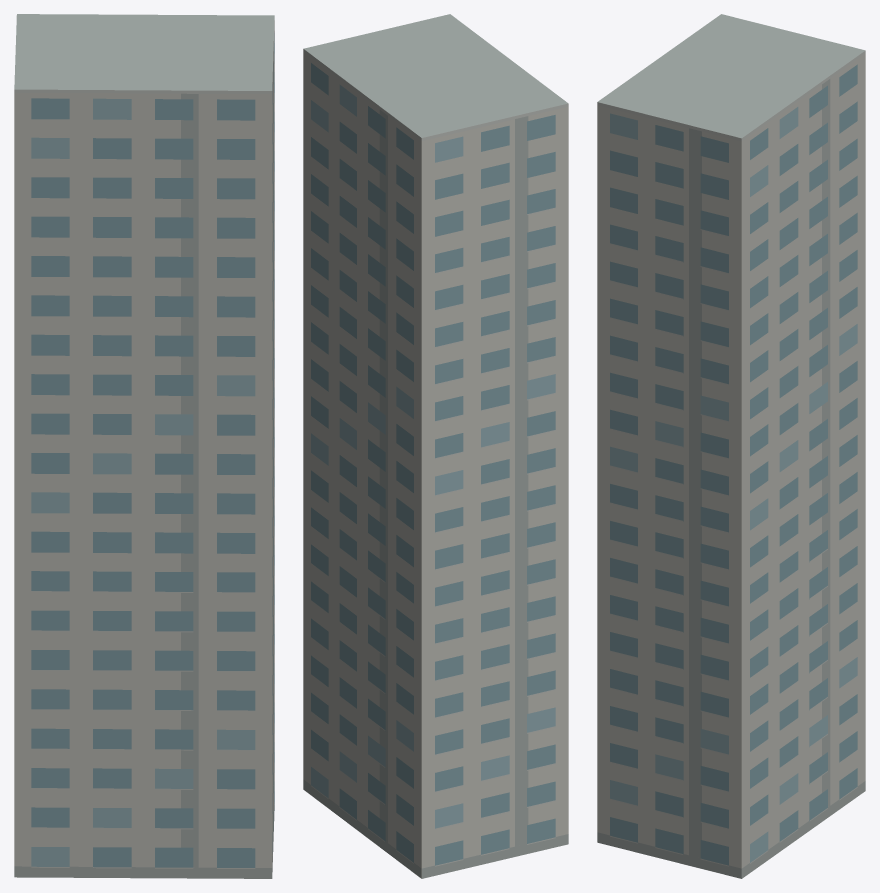
File: residential-446c337c-ad1d-4bad-a950-6350d7d73ec9.glb
3 renders of one model, left to right at view 1: azimuth 30°, elevation 25°; view 2: azimuth 150°, elevation 25°; view 3: azimuth 270°, elevation 25°, orthographic. The views are drawn at different scales.
Parts seen in each view (by area): view 1: residential-446c337c-ad1d-4bad-a950-6350d7d73ec9.tmp; view 2: residential-446c337c-ad1d-4bad-a950-6350d7d73ec9.tmp; view 3: residential-446c337c-ad1d-4bad-a950-6350d7d73ec9.tmp.
Part boxes in pixels (box(x1,y1,x2,y2)): residential-446c337c-ad1d-4bad-a950-6350d7d73ec9.tmp: box(14, 14, 274, 878); residential-446c337c-ad1d-4bad-a950-6350d7d73ec9.tmp: box(303, 14, 568, 878); residential-446c337c-ad1d-4bad-a950-6350d7d73ec9.tmp: box(597, 14, 865, 878).
Size of the model in its own units: 21.26 by 59 by 19.39.
